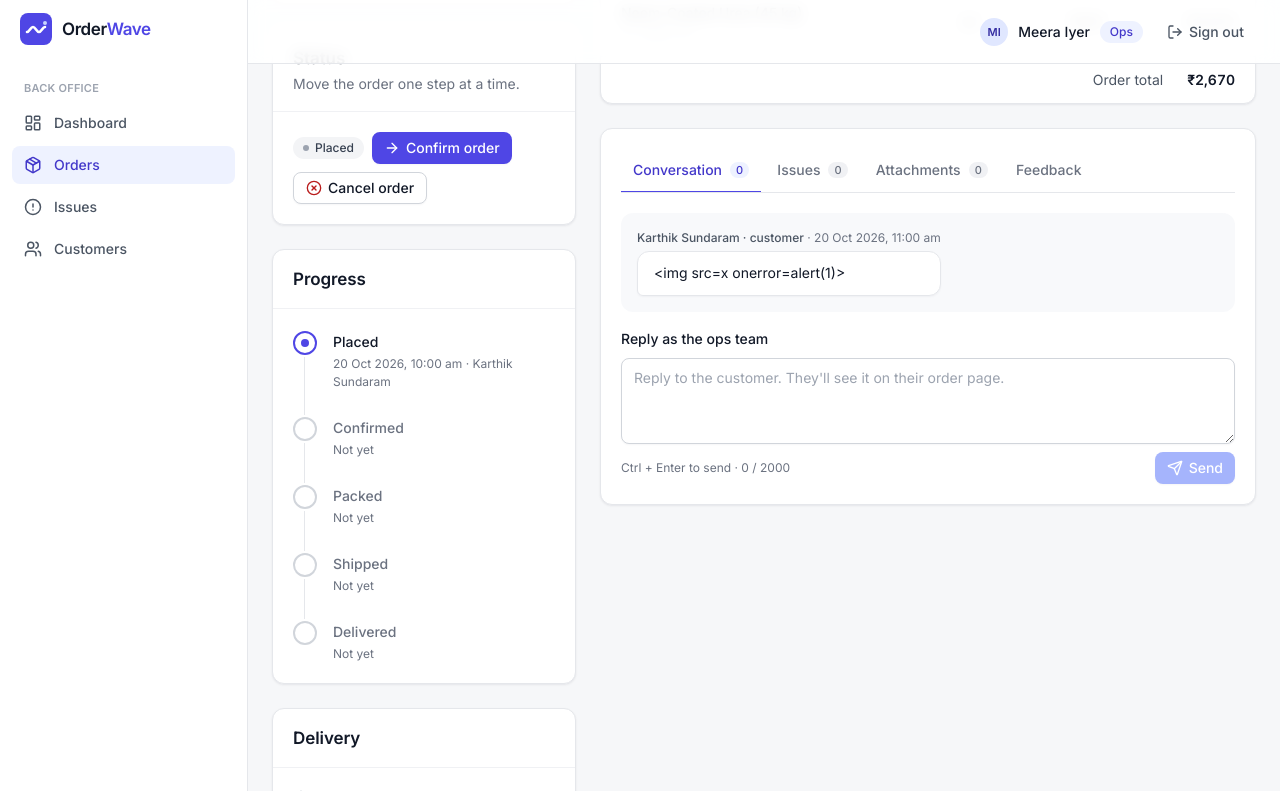
ops order status › labels ops replies and shows customer HTML as text
(page scrolled)
Expected: the text "<img src=x onerror=alert(1)>" is shown, [637, 251, 941, 296]
Expected: the text "Karthik Sundaram · customer" is shown, [637, 230, 804, 245]
Type "We'll cancel the duplicate today." into the text box labelled "Reply as the ops team" at (928, 401), box [621, 358, 1235, 444]
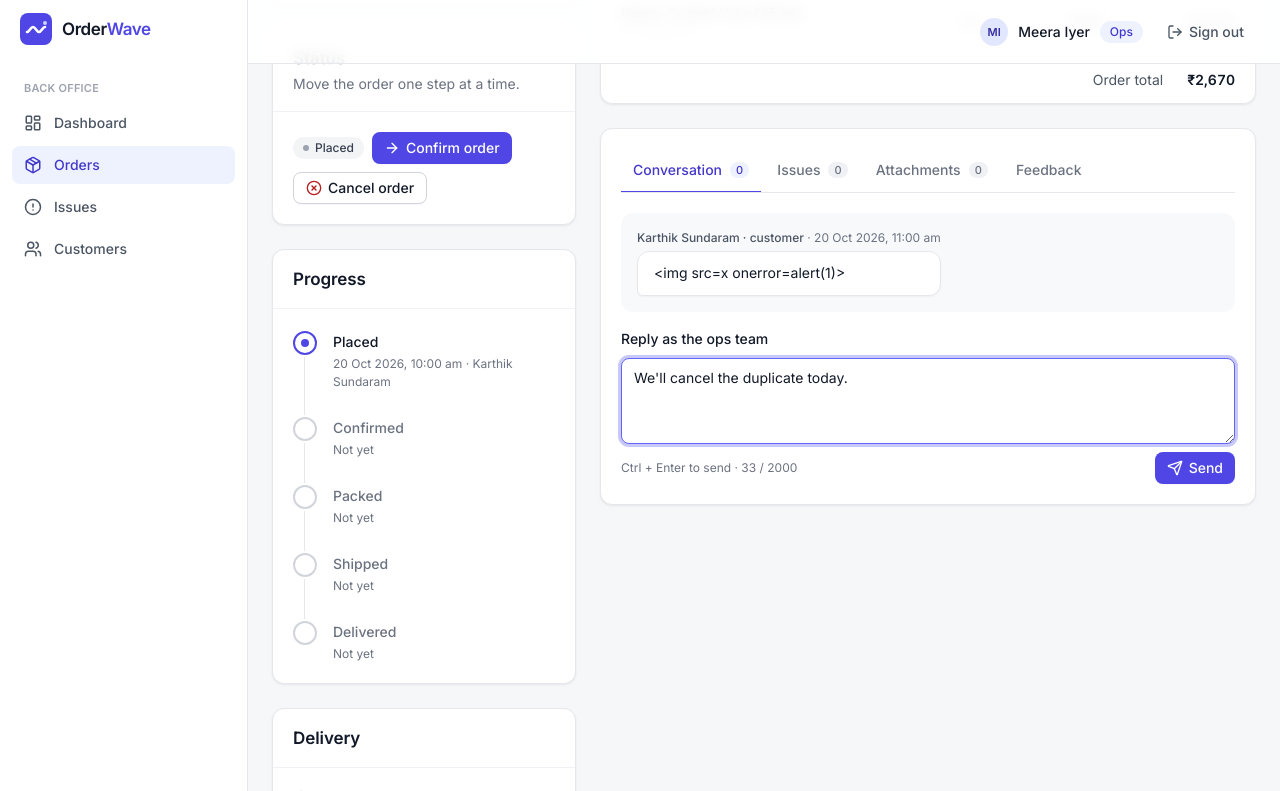
Click the button "Send" at (1195, 468), box [1155, 452, 1235, 484]
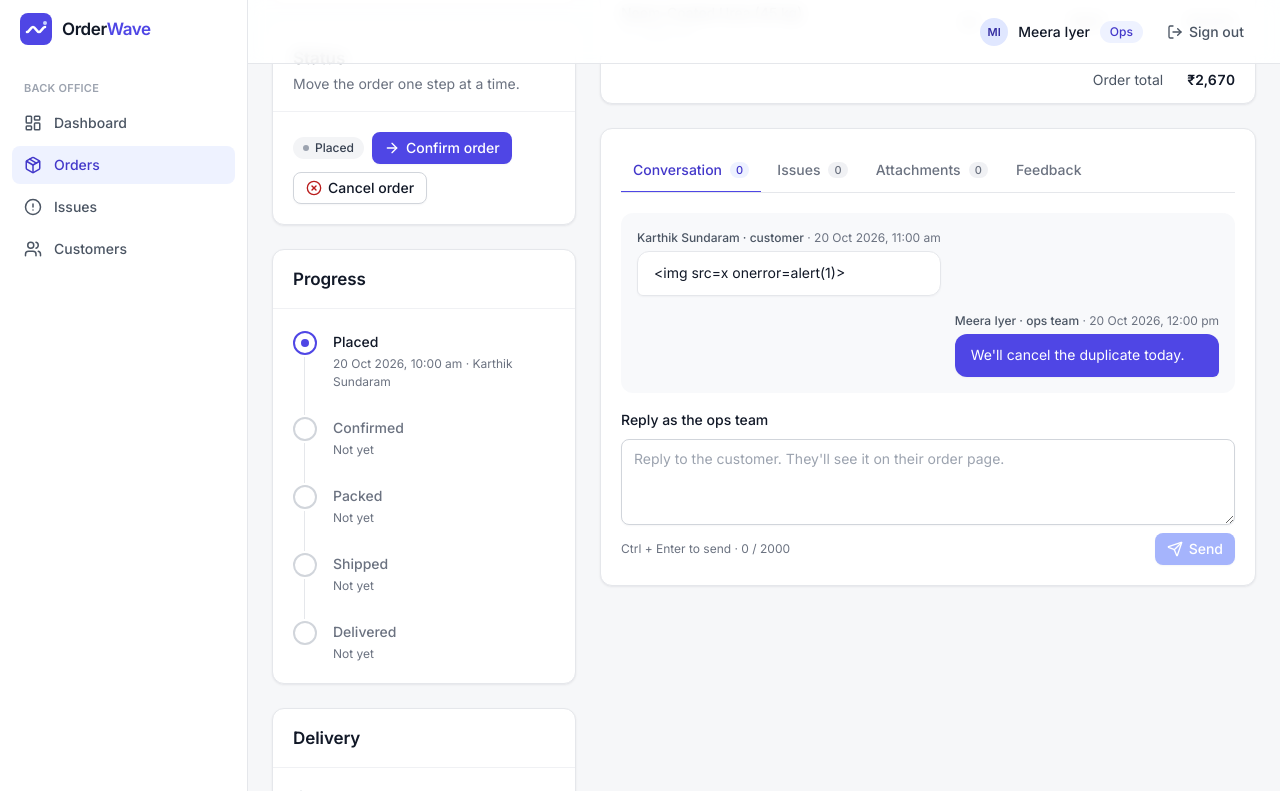
Expected: the text "We'll cancel the duplicate today." is shown, [955, 334, 1219, 377]
Expected: the text "Meera Iyer · ops team" is shown, [955, 313, 1079, 328]
